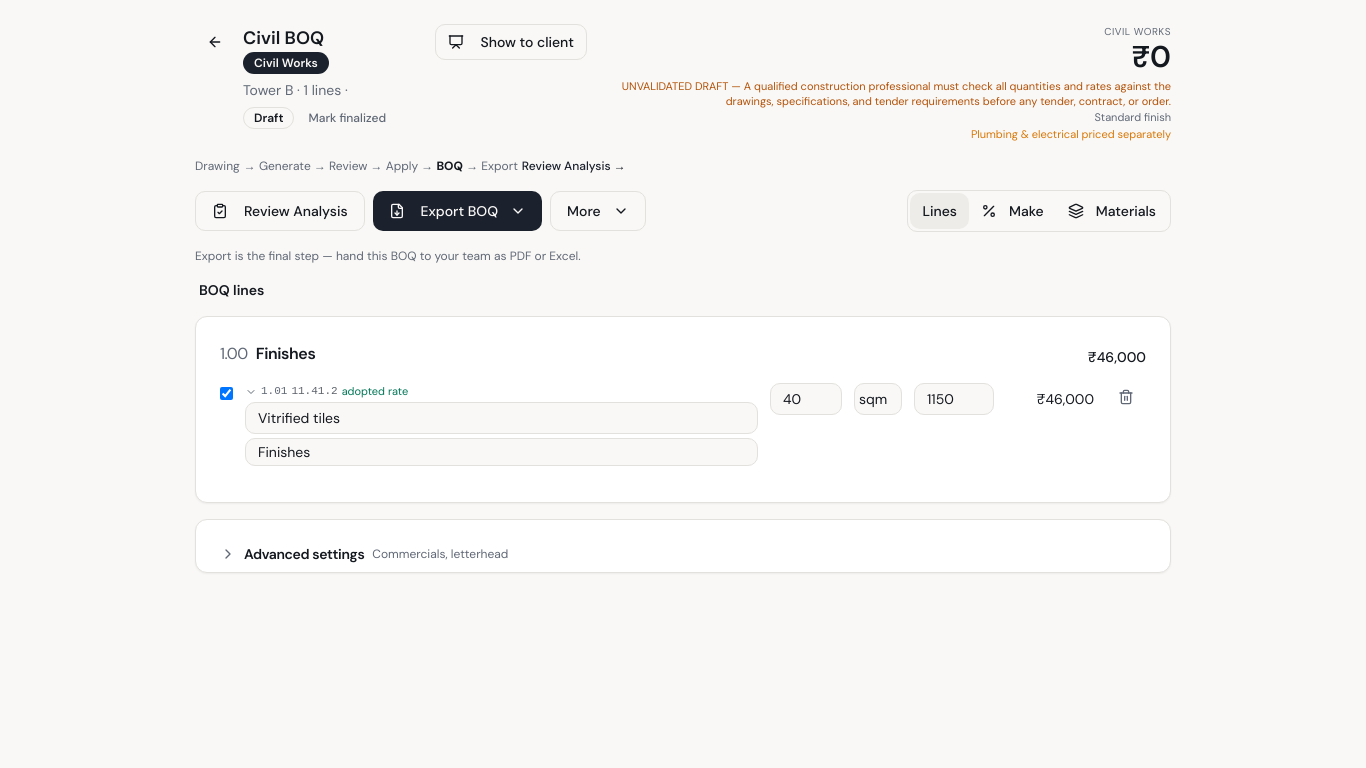
OpsBoqBuilder — manual rate edits › after confirmation, records the manual change, keeps the adoption record, and labels the line as changed after adoption
This screenshot has width=1366, height=768.
Expected: the text "adopted rate" is shown, [342,383,408,400]
Replace the text in the number field with placeholder "rate" with "1300" at [954, 399], box [914,383,994,415]
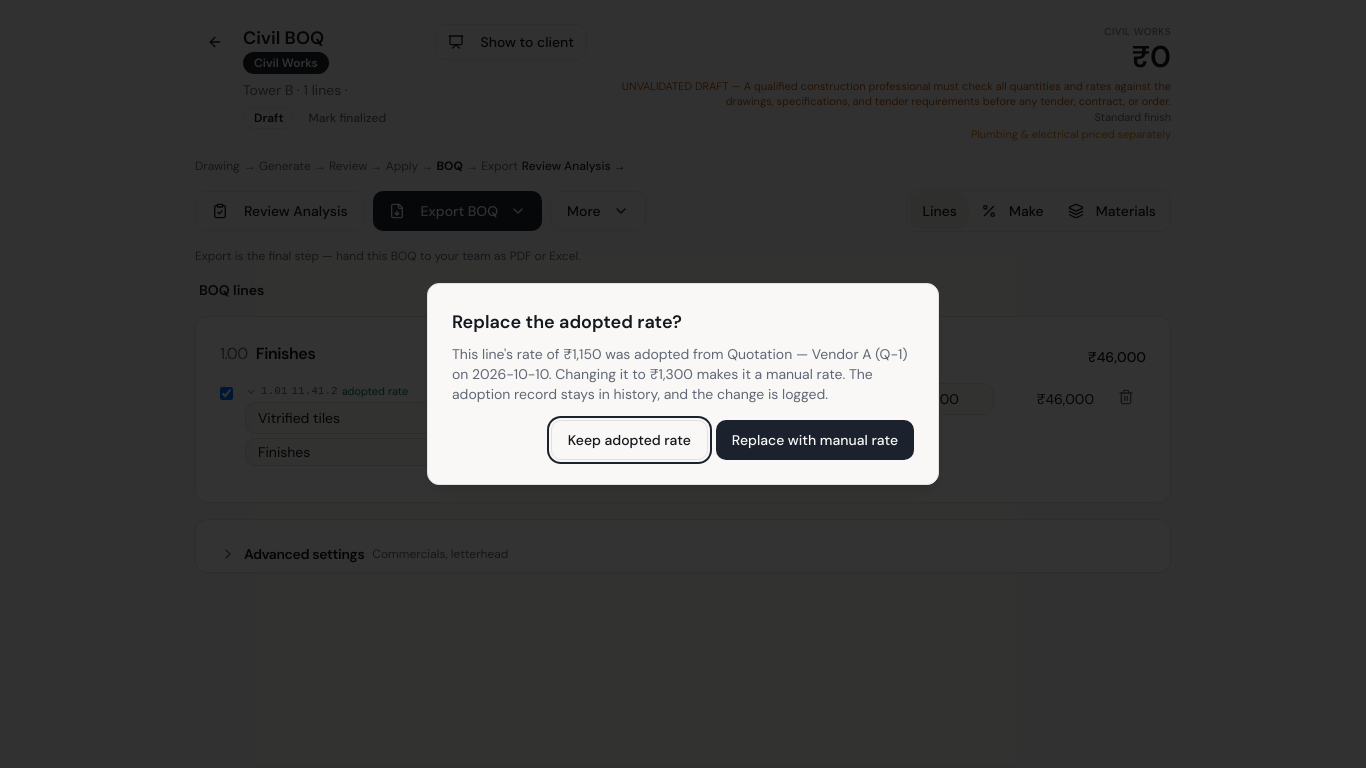
Click the button "Replace with manual rate" at [815, 440], box [716,420,914,460]
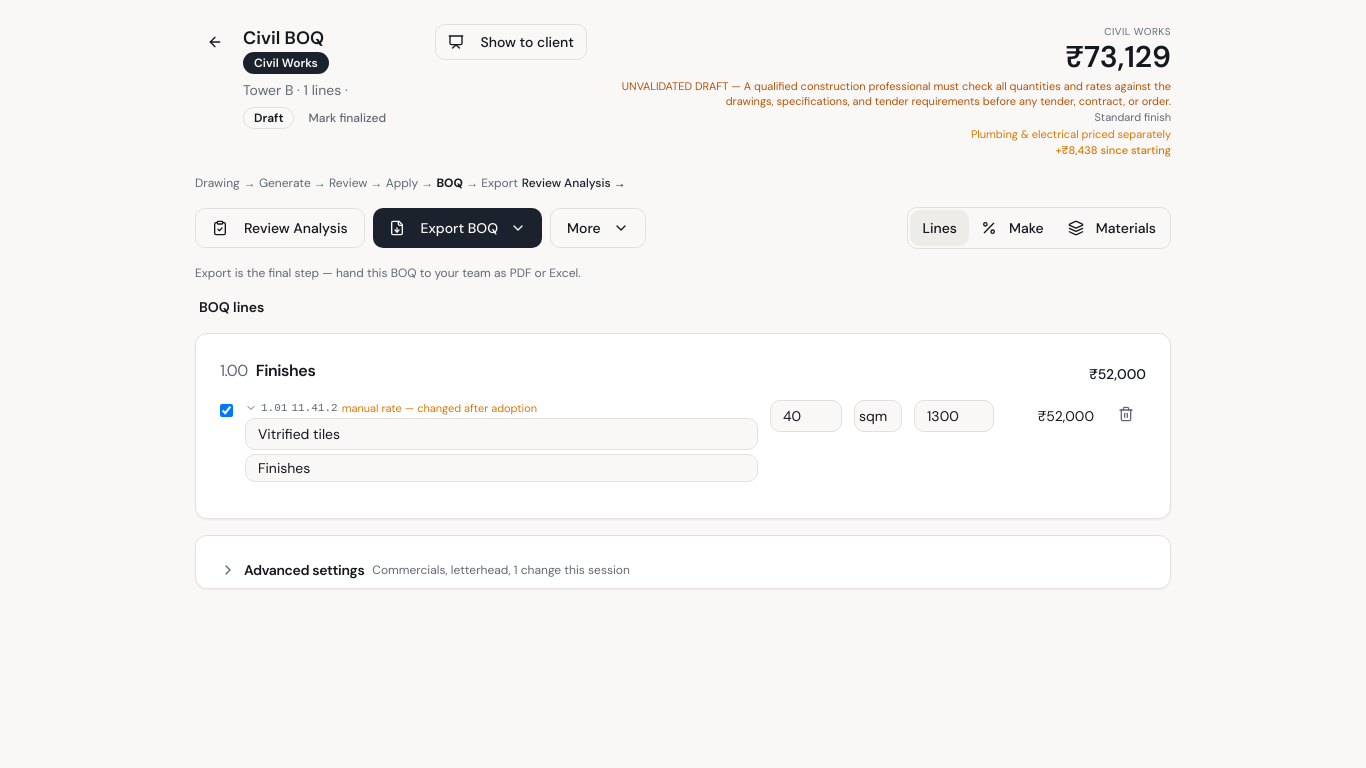
Expected: the text with test id "rate-provenance-l1" reads "manual rate — changed after adoption", [342,401,537,415]
